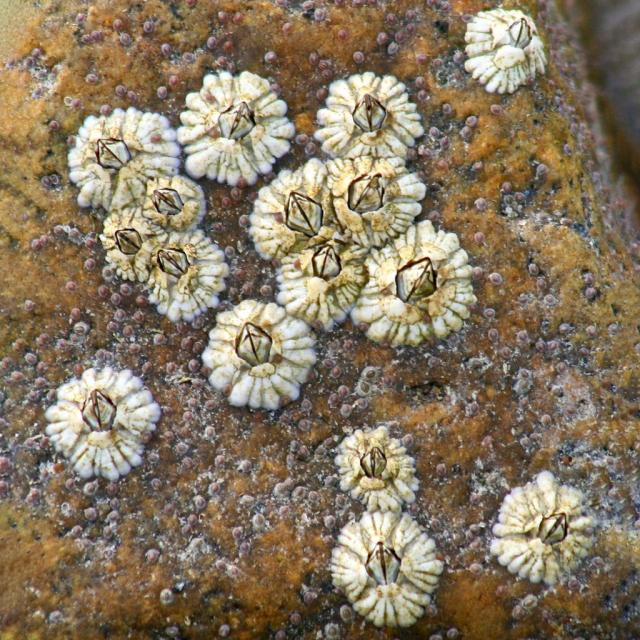barnacles: (351, 227, 478, 347), (329, 504, 447, 632), (44, 362, 163, 483), (178, 71, 296, 184), (488, 472, 600, 586), (205, 303, 320, 413), (312, 71, 426, 163), (65, 107, 178, 196), (134, 232, 230, 316), (462, 6, 552, 94), (327, 159, 423, 237), (332, 431, 419, 512), (276, 247, 363, 326), (259, 162, 340, 243), (97, 209, 157, 287), (137, 180, 210, 232)
